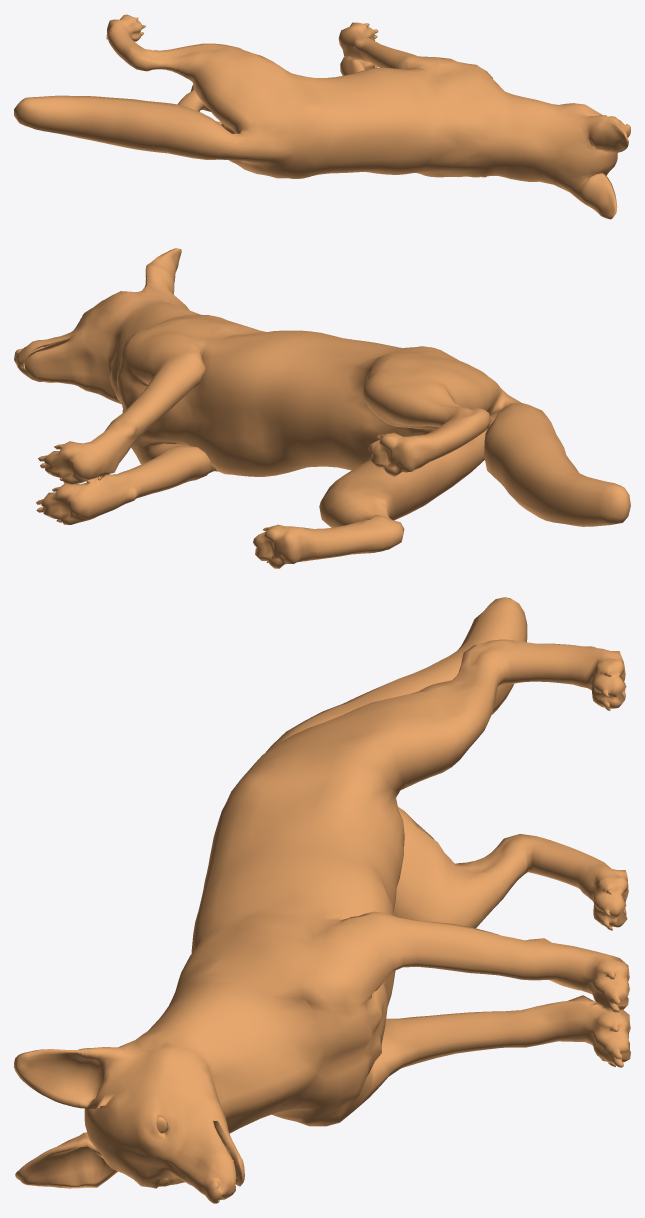
Rendered from pack_fox_game.glb.
The picture shows the model from 3 angles, top to bottom: view 1: azimuth 30°, elevation 25°; view 2: azimuth 150°, elevation 25°; view 3: azimuth 270°, elevation 25°; orthographic projection. The views are drawn at different scales.
Visible parts, largest first — view 1: Fox.001_applied_clean_M_Fox_0; view 2: Fox.001_applied_clean_M_Fox_0; view 3: Fox.001_applied_clean_M_Fox_0.
Part boxes in pixels (x1,y1,x2,y2): Fox.001_applied_clean_M_Fox_0: (14,14,630,219); Fox.001_applied_clean_M_Fox_0: (14,248,630,568); Fox.001_applied_clean_M_Fox_0: (14,597,630,1203).
Size of the model in its own units: 132 by 37.29 by 77.89.
